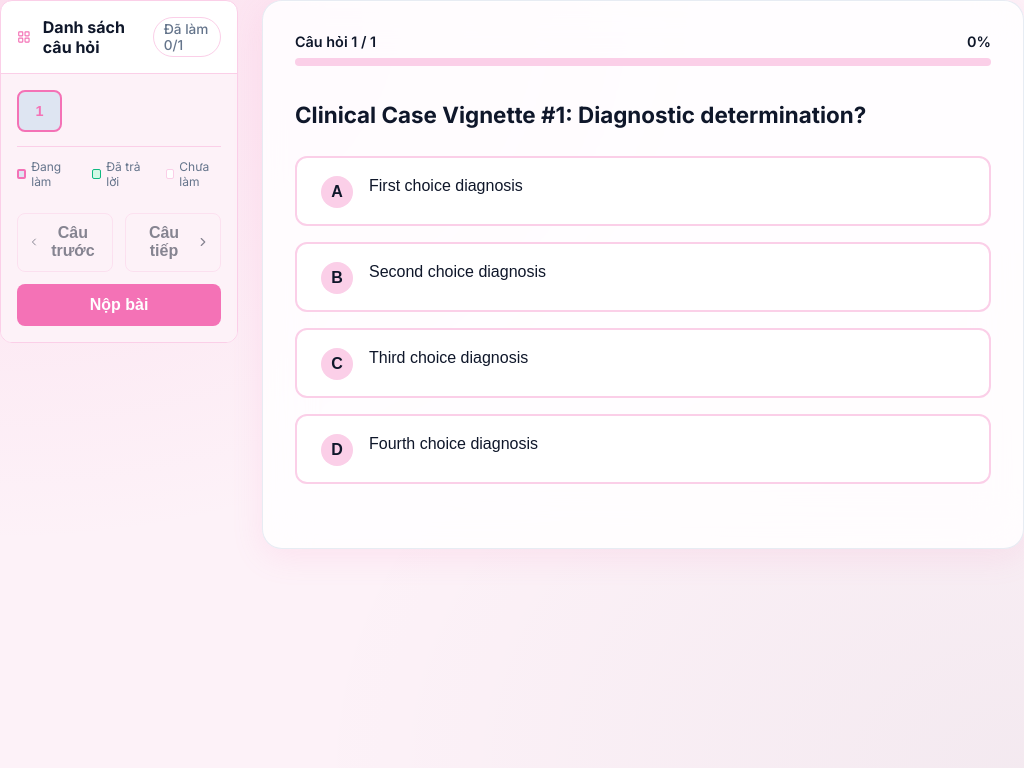
Test: Empirical Challenger Suite: History Review & Session Persistence Stress Test (M1) › Suite 4: Score Calculation Correctness Across Boundaries (0, 1, 100 Questions) › E4.2: Boundary 1 Question: 100% Score on correct answer with success border
# Select correct option 'A'
Click the radio button labelled "A First choice diagnosis" at (337, 192), box [295,156,991,226]
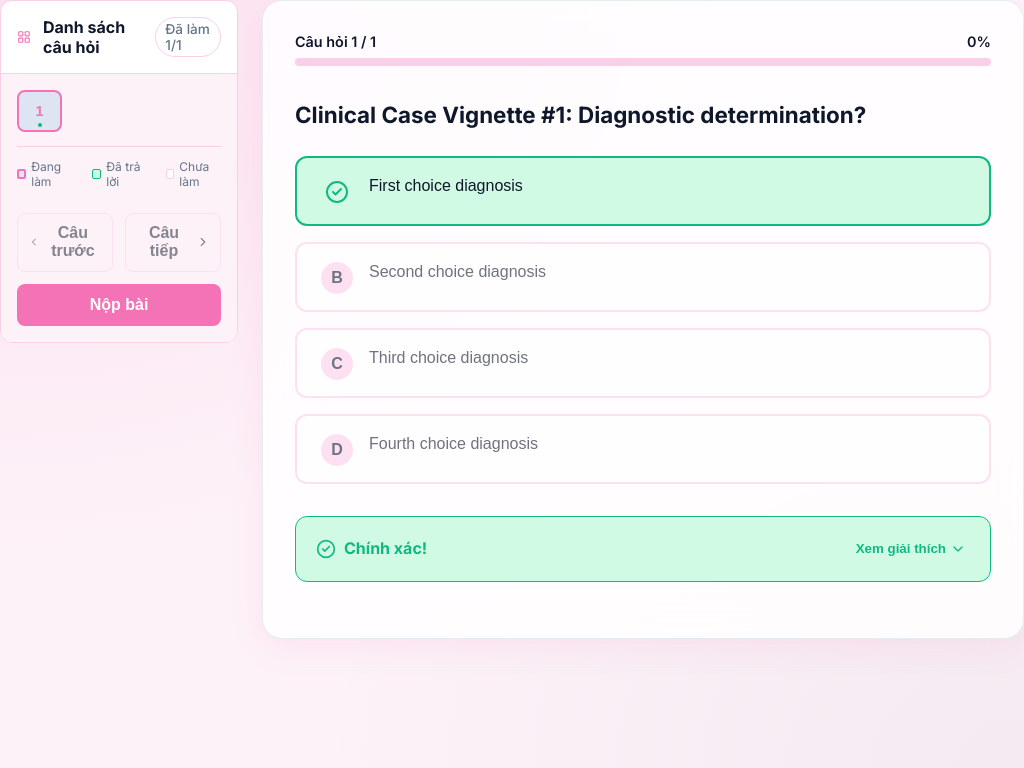
# Click "Nộp bài"
Click the button "Nộp bài" at (119, 305), box [17,284,221,326]
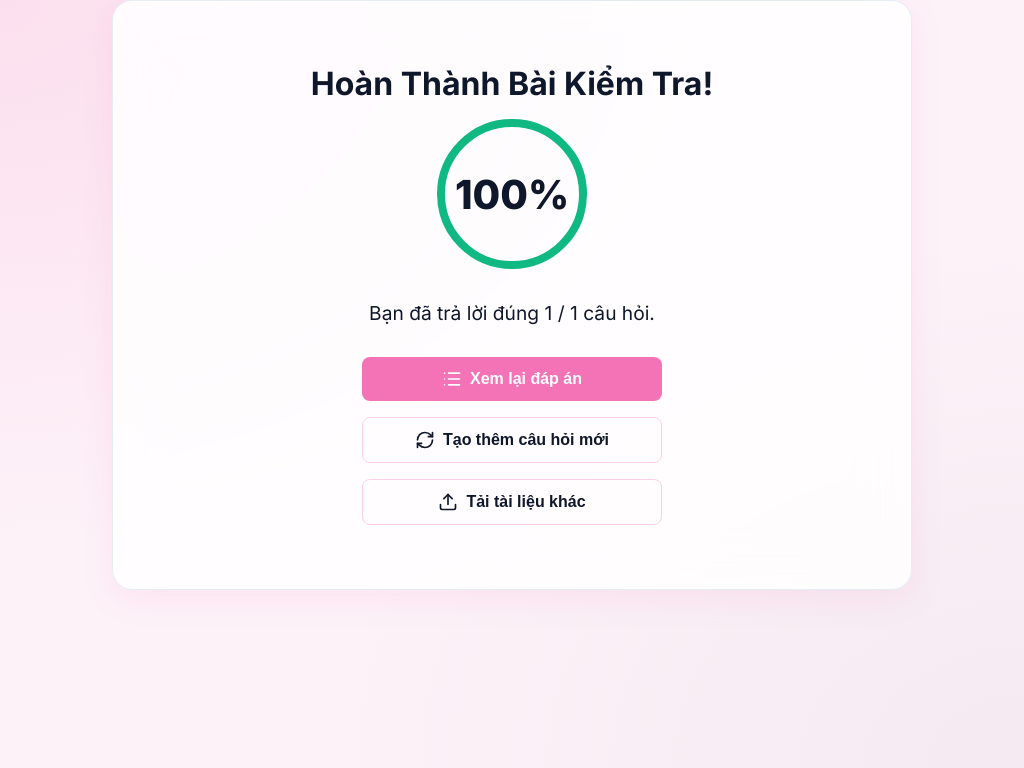
Result: the text "100%" is shown at [437,119,587,269]
Result: the text "Bạn đã trả lời đúng 1 / 1 câu hỏi." is shown at [369,301,655,325]
